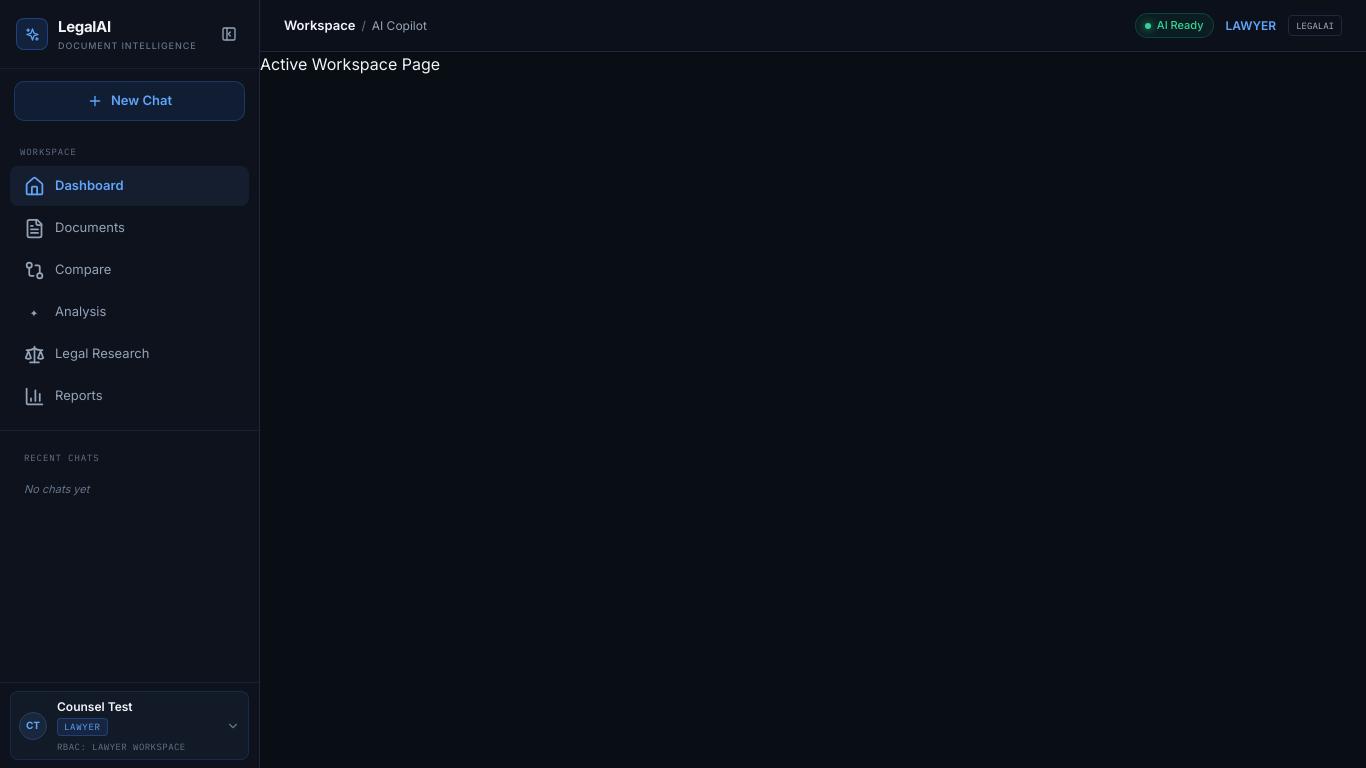
Test: AppShell Sidebar Navigation & Layout › clicking Settings in profile menu opens SettingsModal in-place without redirecting
Click the button "CT Counsel Test LAWYER RBAC: LAWYER workspace": x=130, y=726 [10,691,249,760]
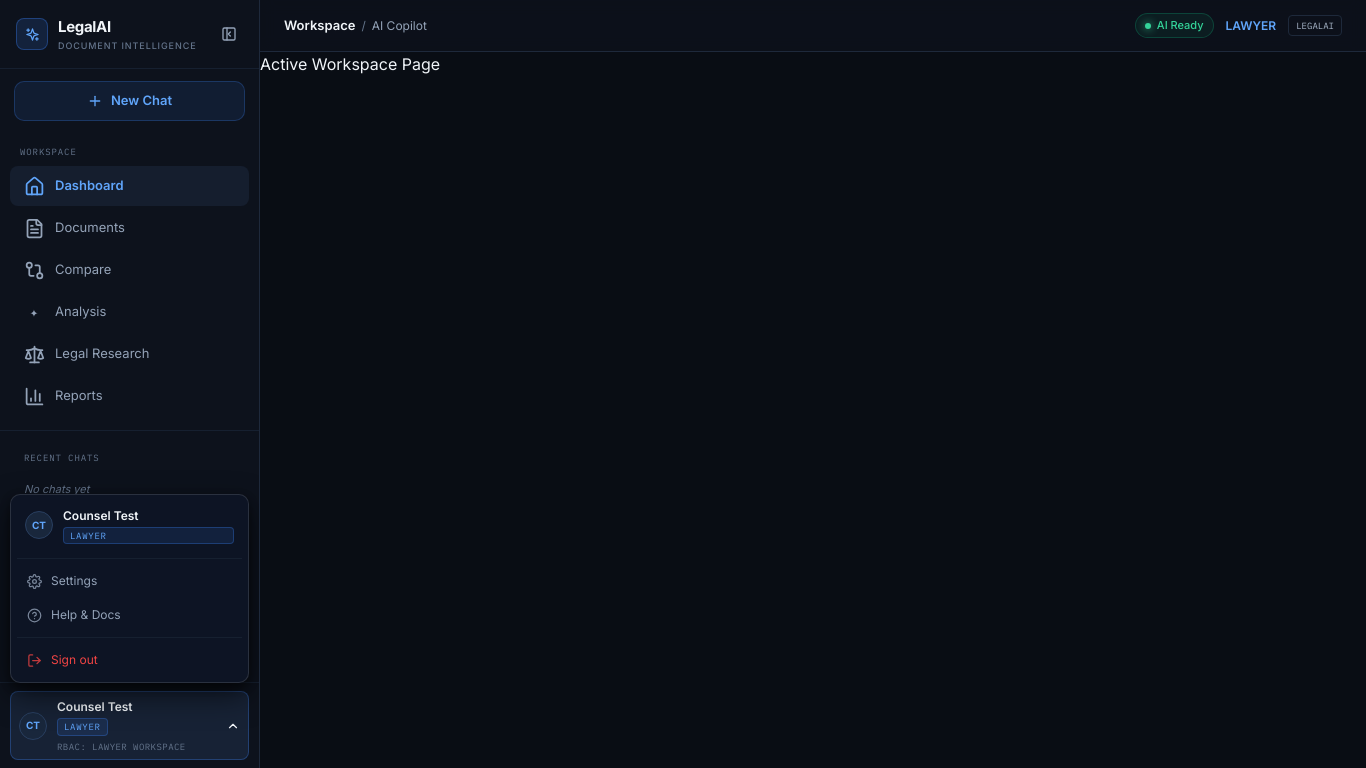
Check: the link "Settings" is shown
# Click Settings
Click the link "Settings": x=62, y=581 [27,573,97,588]
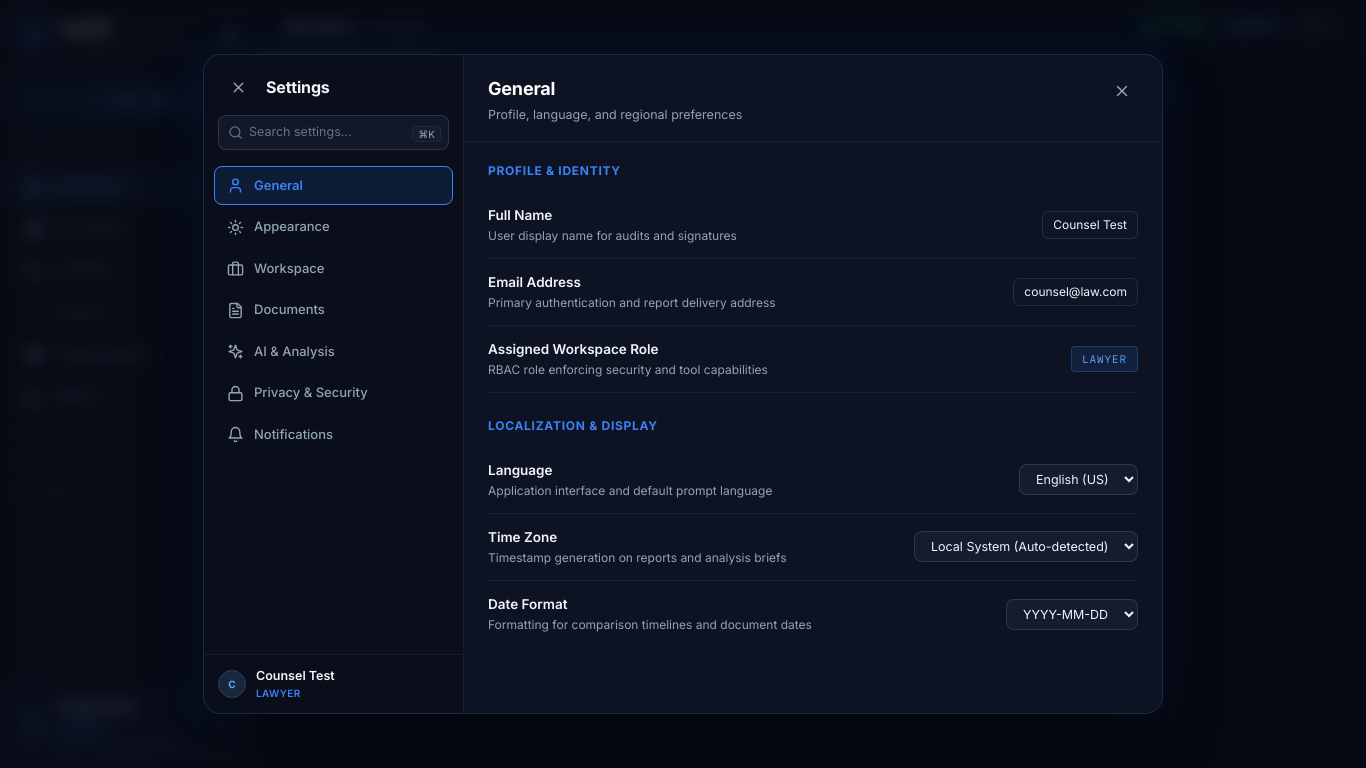
Check: the button "CT Counsel Test LAWYER RBAC: LAWYER workspace" is collapsed, box [10,691,249,760]
Check: the dialog is shown
Check: the tab "General" is shown, box [214,166,453,205]
# Closing the modal returns user to workspace
Click the button named "close settings" next to "Settings": x=238, y=87 [222,71,254,103]
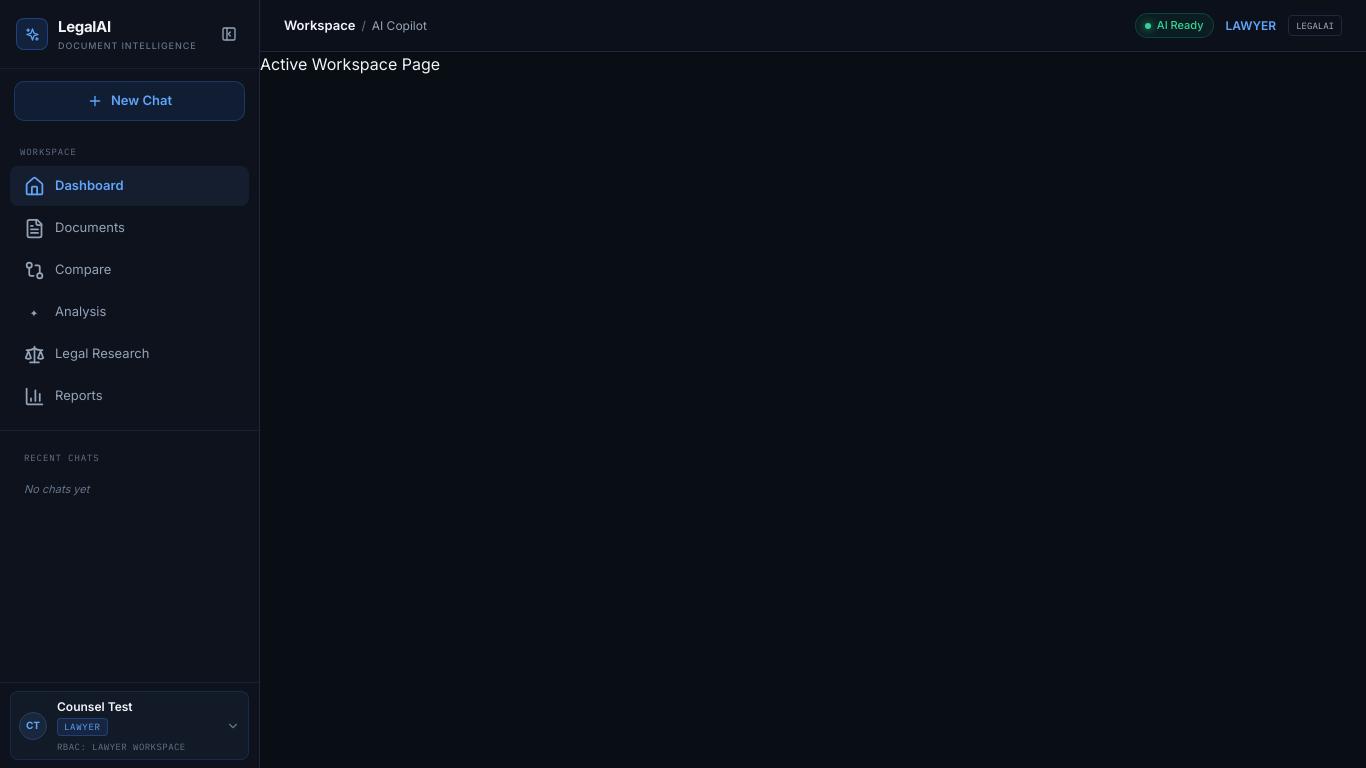
Check: the text "Active Workspace Page" is shown, box [260,54,440,74]
Check: the dialog is gone
